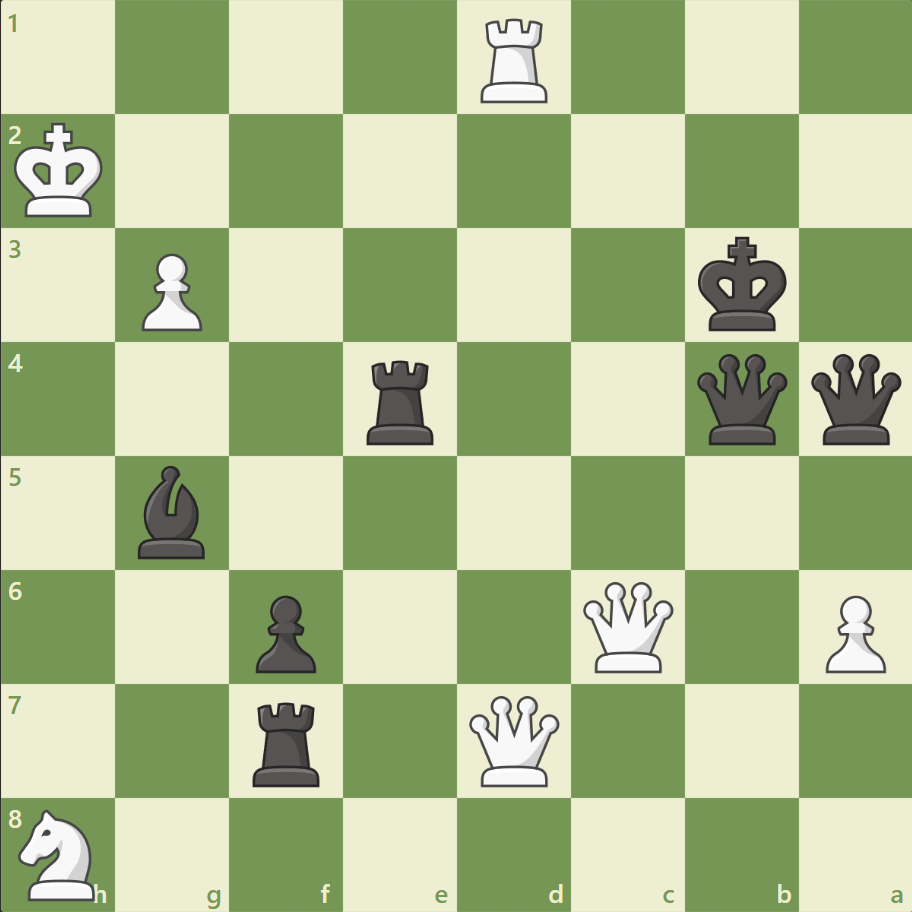K: (11, 117, 111, 225)
N: (11, 802, 108, 904)
P: (133, 246, 208, 337), (815, 586, 889, 677)
Q: (578, 576, 677, 676), (464, 690, 563, 789)
R: (473, 12, 556, 109)
b: (131, 460, 215, 563)
k: (692, 231, 792, 339)
p: (247, 586, 322, 677)
q: (805, 349, 904, 449), (691, 349, 790, 449)
r: (246, 693, 329, 790), (360, 352, 442, 449)
